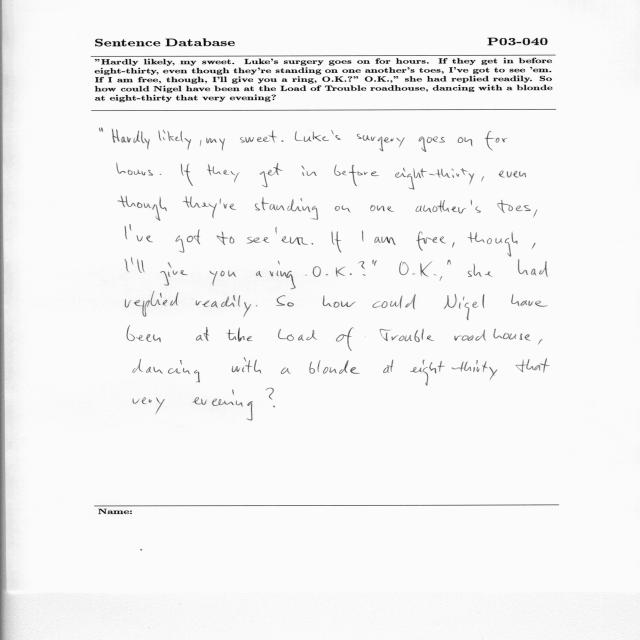word: (410, 360, 497, 386), (192, 390, 253, 421), (395, 168, 474, 190), (133, 359, 200, 382), (255, 197, 318, 220), (126, 291, 179, 317), (468, 232, 518, 257), (118, 196, 167, 221), (196, 295, 251, 317), (444, 294, 485, 320), (454, 328, 531, 341), (334, 165, 379, 186), (415, 200, 481, 214), (357, 134, 405, 151), (183, 196, 217, 219), (112, 129, 150, 149), (270, 261, 296, 289), (309, 360, 360, 374), (380, 329, 434, 342), (159, 130, 192, 150), (373, 295, 416, 310), (160, 262, 188, 285), (399, 261, 437, 277), (175, 229, 200, 253), (416, 231, 446, 251), (207, 165, 240, 183), (275, 227, 308, 245), (127, 326, 161, 343), (295, 130, 341, 142), (260, 163, 283, 187), (133, 397, 165, 414), (518, 259, 548, 277), (516, 358, 550, 373), (240, 130, 277, 143), (511, 294, 548, 307), (232, 358, 262, 374), (117, 163, 153, 176), (278, 329, 317, 341), (497, 200, 531, 213), (418, 136, 445, 152), (210, 270, 237, 286), (336, 327, 354, 351), (313, 266, 352, 277), (485, 131, 507, 150), (323, 296, 356, 308), (227, 328, 253, 342), (468, 263, 493, 277), (206, 137, 225, 151), (181, 164, 193, 186), (217, 231, 235, 245), (332, 231, 342, 253), (131, 258, 145, 273), (276, 296, 294, 307), (196, 327, 210, 341), (220, 198, 236, 210), (499, 171, 526, 178), (375, 236, 396, 245), (266, 388, 275, 407), (370, 205, 394, 212), (247, 237, 270, 244), (301, 166, 317, 176), (458, 137, 473, 146), (383, 360, 393, 373), (358, 261, 366, 276), (136, 236, 153, 243), (335, 206, 350, 213), (126, 225, 132, 240), (281, 367, 291, 374), (126, 259, 130, 272), (256, 271, 262, 277), (372, 259, 377, 266), (533, 210, 537, 218), (538, 339, 543, 345), (532, 243, 536, 249), (447, 260, 451, 265), (99, 128, 103, 132), (481, 176, 484, 181), (452, 243, 455, 248), (440, 276, 443, 281), (200, 140, 202, 146), (362, 231, 363, 242), (281, 140, 284, 142), (312, 243, 314, 245), (160, 174, 162, 175), (305, 275, 307, 276), (256, 305, 257, 306)
